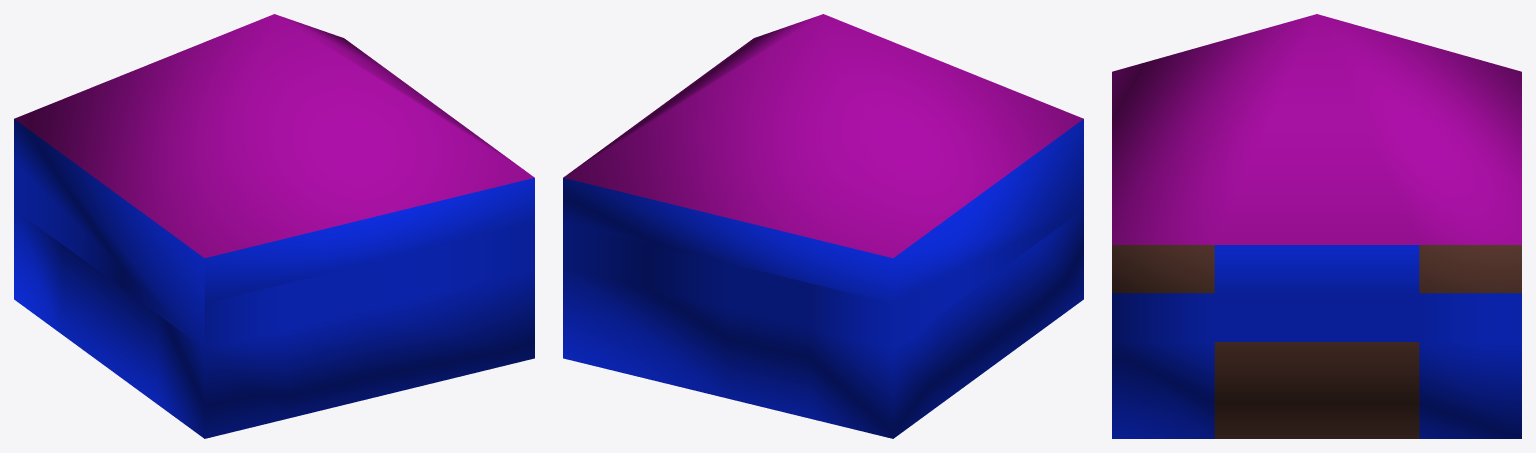
Rendered from house.fbx.
The picture shows the model from 3 angles, left to right: view 1: azimuth 30°, elevation 25°; view 2: azimuth 150°, elevation 25°; view 3: azimuth 270°, elevation 25°; orthographic projection. The views are drawn at different scales.
Visible parts, largest first — view 1: Cube; view 2: Cube; view 3: Cube.
Boxes of the visible parts, x1,y1,x2,y2 form: Cube: [14, 14, 534, 438]; Cube: [563, 14, 1083, 438]; Cube: [1112, 14, 1521, 438].
Bounding box in the file's own units: 219 × 219 × 200.
